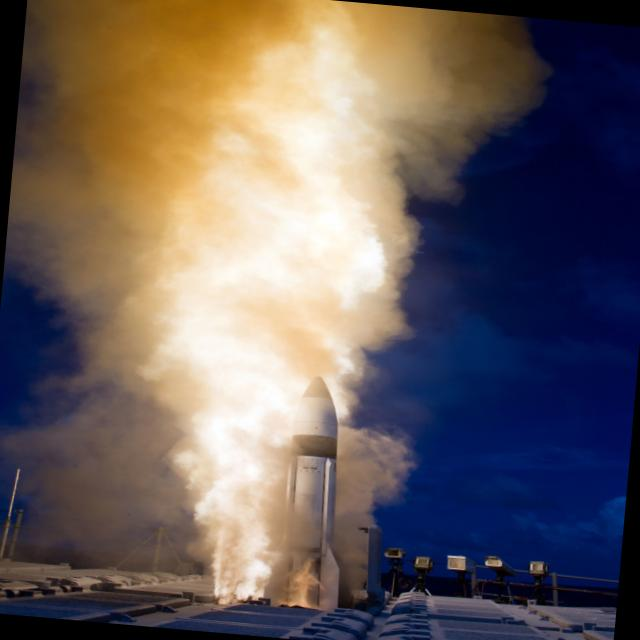rocket: (256, 369, 375, 631)
